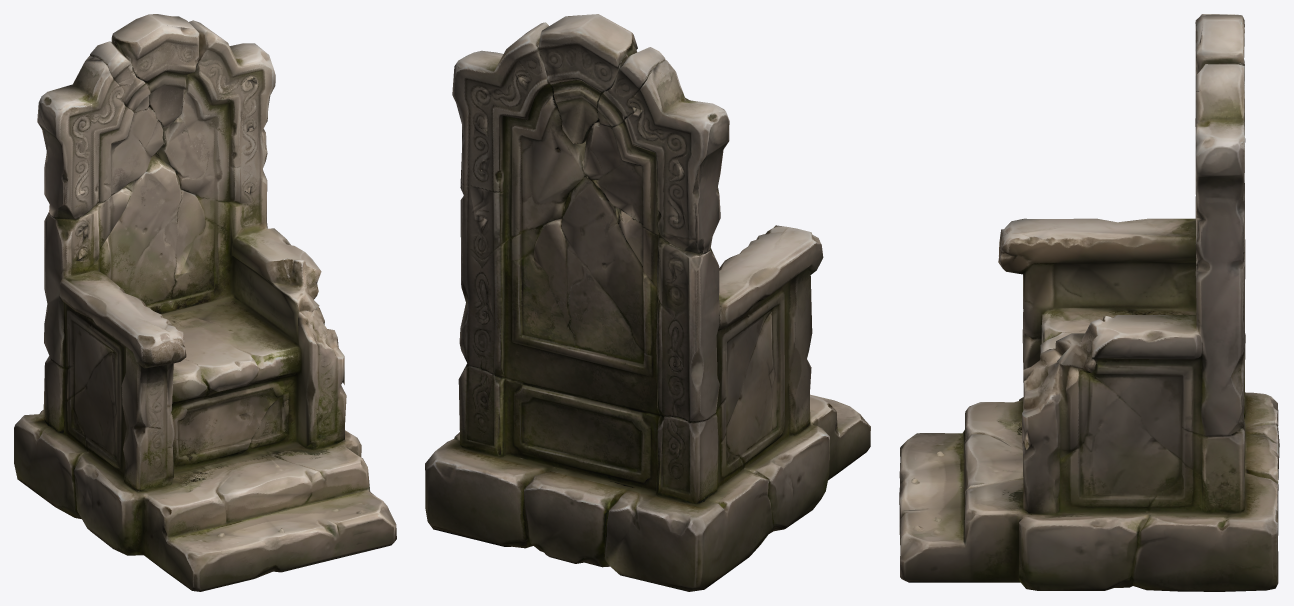
The model's file is BrokenThrone.gltf.
The picture shows the model from 3 angles, left to right: view 1: azimuth 30°, elevation 25°; view 2: azimuth 150°, elevation 25°; view 3: azimuth 270°, elevation 25°; orthographic projection. The views are drawn at different scales.
Parts seen in each view (by area): view 1: lo; view 2: lo; view 3: lo.
Boxes of the visible parts, x1,y1,x2,y2 form: lo: [14, 14, 396, 591]; lo: [425, 14, 870, 591]; lo: [899, 14, 1279, 591].
Size of the model in its own units: 1.99 by 3.54 by 2.4.
1 material, 1 textured.
